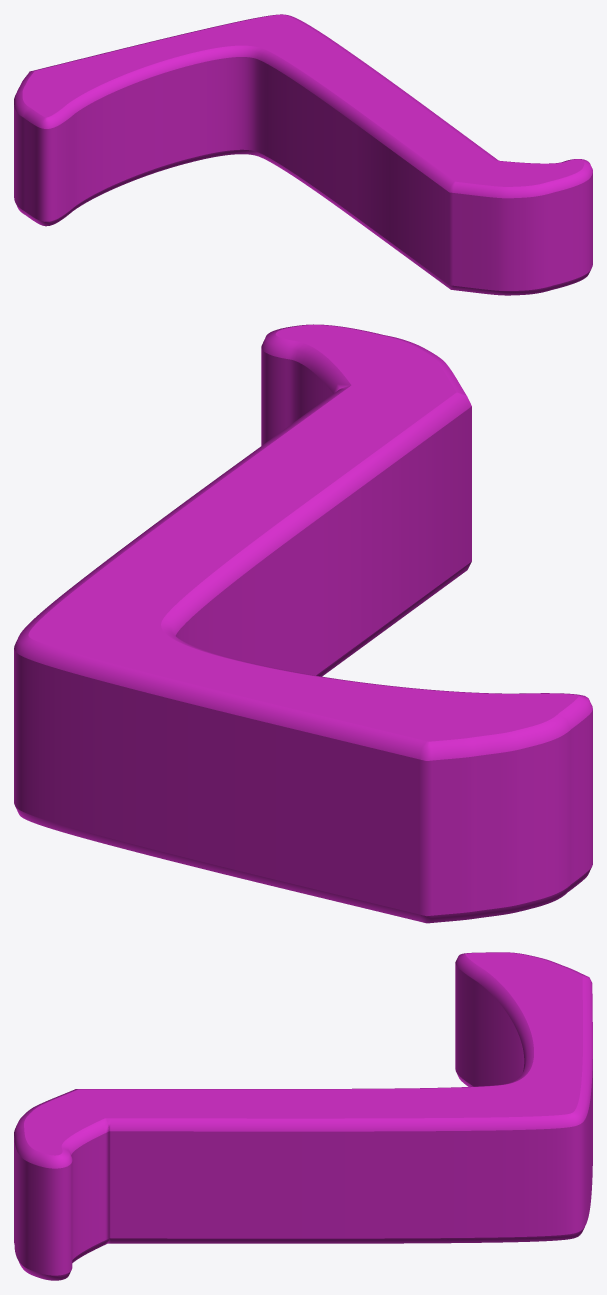
Rendered from Letter_L.fbx.
3 renders of one model, top to bottom at view 1: azimuth 30°, elevation 25°; view 2: azimuth 150°, elevation 25°; view 3: azimuth 270°, elevation 25°, orthographic. The views are drawn at different scales.
Parts seen in each view (by area): view 1: Letter_L; view 2: Letter_L; view 3: Letter_L.
Boxes of the visible parts, x1=… form: Letter_L: x1=14, y1=14, x2=592, y2=295; Letter_L: x1=14, y1=324, x2=592, y2=923; Letter_L: x1=14, y1=952, x2=592, y2=1280.
Size of the model in its own units: 0.5079 by 0.14 by 0.5883.
